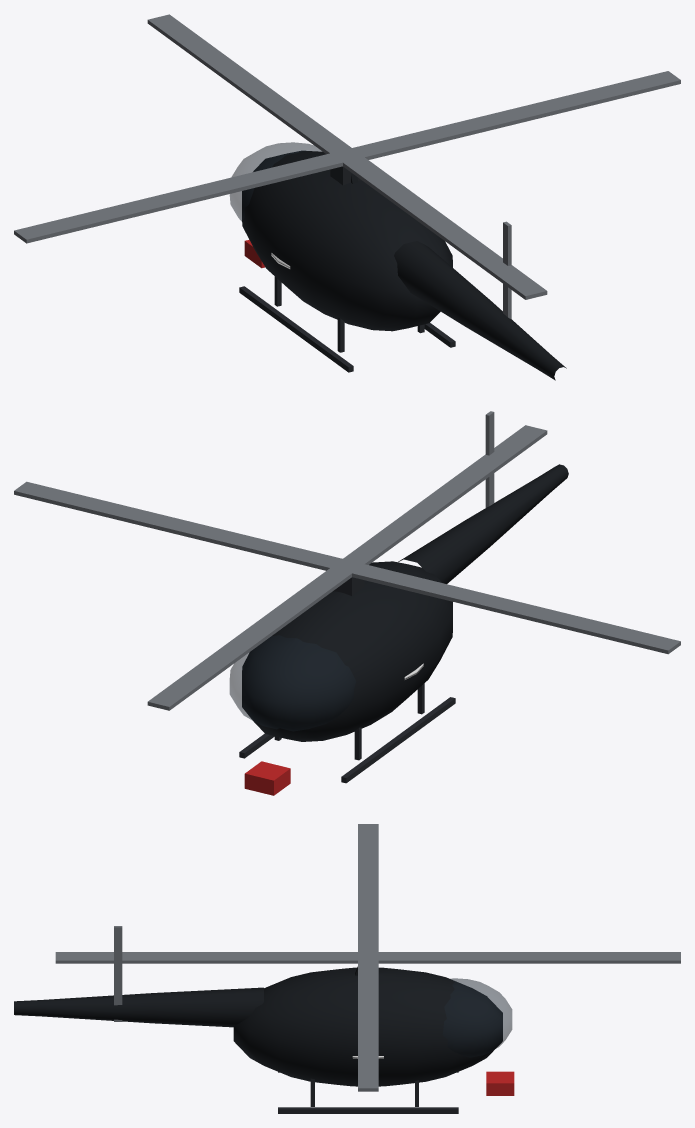
Rendered from desktop.glb.
3 views of the same model, one above another, from view 1: azimuth 30°, elevation 25°; view 2: azimuth 150°, elevation 25°; view 3: azimuth 270°, elevation 25° (orthographic). The views are drawn at different scales.
Visible parts, largest first — view 1: police.heli, rotor_main, rotor_tail; view 2: police.heli, rotor_main, rotor_tail; view 3: police.heli, rotor_main, rotor_tail.
Boxes of the visible parts, box(x1,y1,x2,y2) form: police.heli: box(229, 142, 566, 380); rotor_main: box(14, 14, 680, 299); rotor_tail: box(503, 221, 511, 319); police.heli: box(229, 464, 568, 795); rotor_main: box(14, 425, 680, 710); rotor_tail: box(485, 411, 494, 507); police.heli: box(14, 966, 514, 1113); rotor_main: box(55, 824, 680, 1091); rotor_tail: box(114, 926, 122, 1021).
Bounding box in the file's own units: 9 × 2.68 × 9.6.
